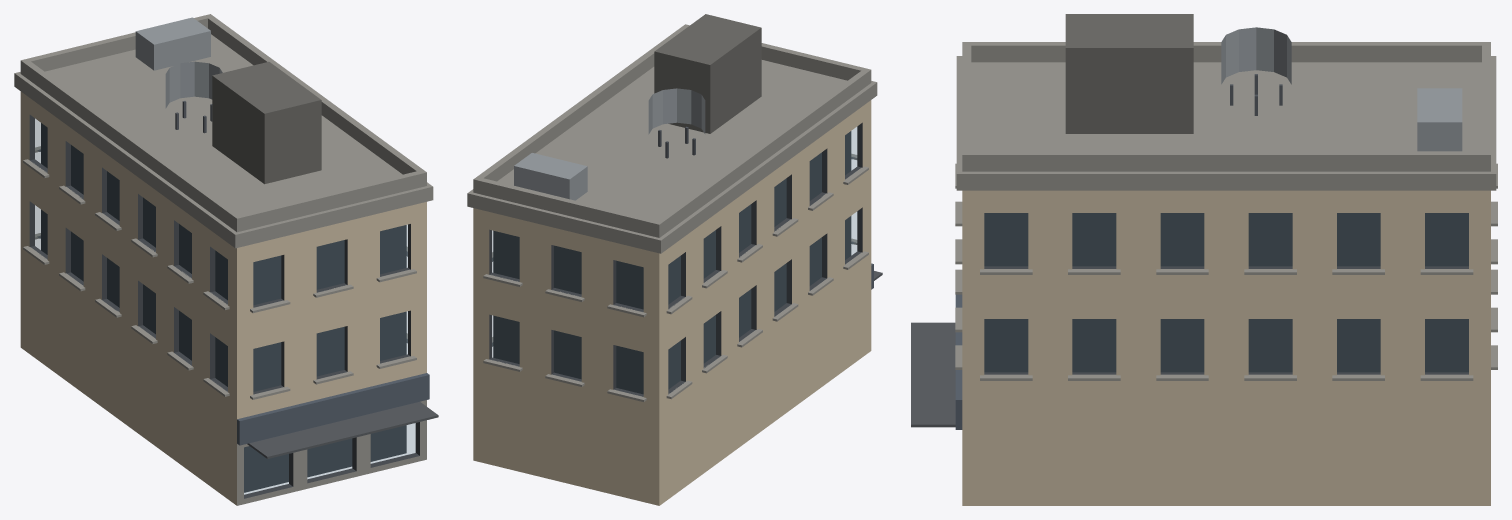
The model's file is shophouse-3.glb.
The picture shows the model from 3 angles, left to right: view 1: azimuth 30°, elevation 25°; view 2: azimuth 150°, elevation 25°; view 3: azimuth 270°, elevation 25°; orthographic projection. The views are drawn at different scales.
Visible parts, largest first — view 1: shophouse-3; view 2: shophouse-3; view 3: shophouse-3.
Boxes of the visible parts, box(x1,y1,x2,y2) form: shophouse-3: box(14, 14, 438, 505); shophouse-3: box(467, 14, 882, 505); shophouse-3: box(911, 14, 1497, 505).
Size of the model in its own units: 7.72 by 12.7 by 16.07.
